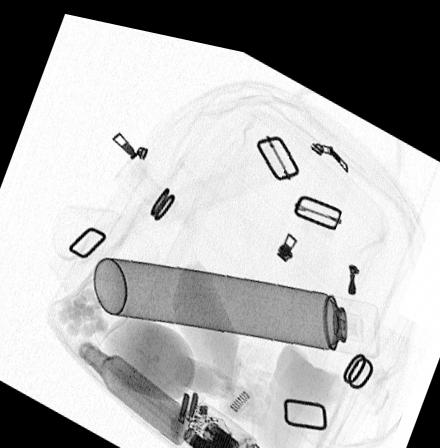Sprayer: (91, 251, 381, 343)
